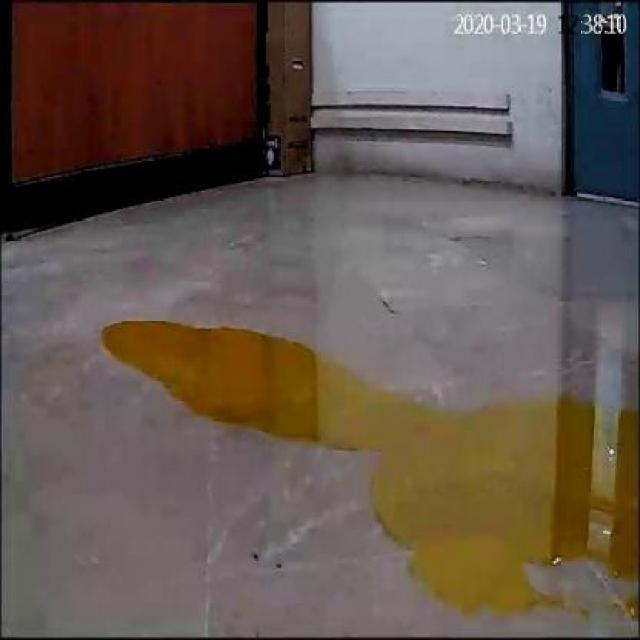spill: (98, 318, 634, 618)
